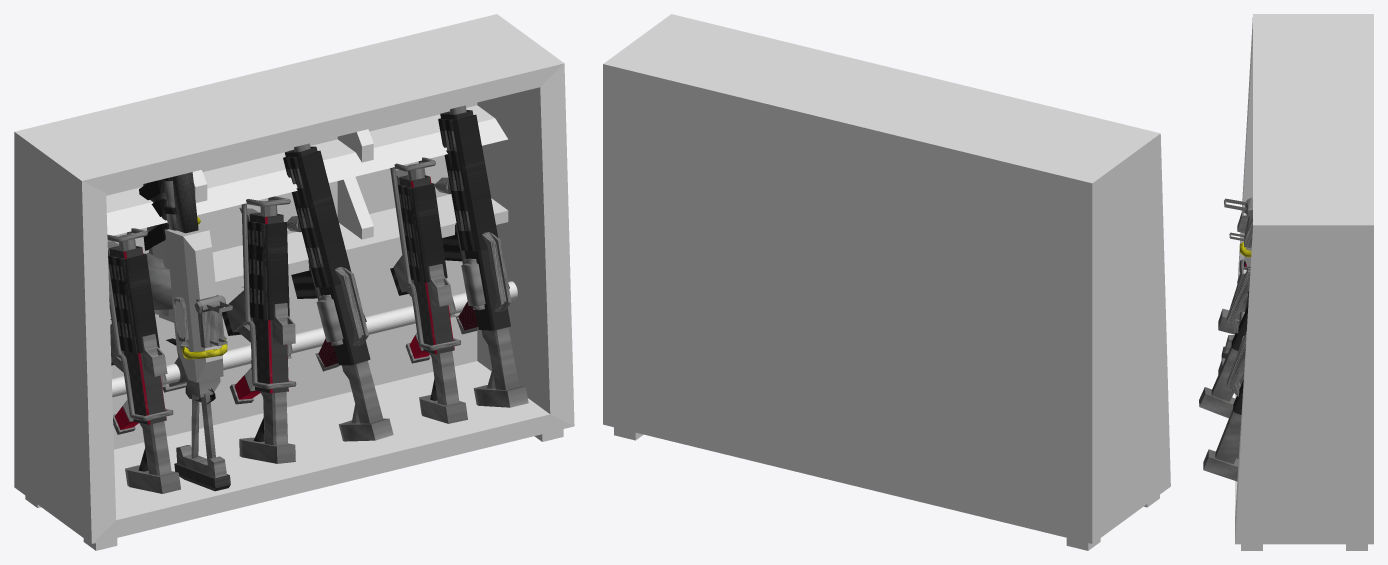
File: gunrack.fbx
3 views of the same model, side by side, from view 1: azimuth 30°, elevation 25°; view 2: azimuth 150°, elevation 25°; view 3: azimuth 270°, elevation 25° (orthographic). The views are drawn at different scales.
Visible parts, largest first — view 1: Cube.001, Cube, Cube.015, Cube.021, Cube.016, Cube.004, Cube.002, Cube.019, Cube.008, Cylinder, Cube.007, Cube.003; view 2: Cube.001; view 3: Cube.001, Cube.021, Cube.015, Cube, Cube.004, Cube.016.
Part boxes in pixels (x1,y1,x2,y2): Cube.001: (14,14,574,543); Cube: (139,172,232,491); Cube.015: (434,105,528,407); Cube.021: (283,143,393,441); Cube.016: (222,196,296,463); Cube.004: (107,228,180,493); Cube.002: (106,105,507,235); Cube.019: (390,157,467,423); Cube.008: (109,194,508,318); Cylinder: (112,281,517,397); Cube.007: (337,177,373,239); Cube.003: (337,129,373,162); Cube.001: (603,14,1170,543); Cube.001: (1235,14,1373,544); Cube.021: (1199,268,1250,418); Cube.015: (1203,332,1246,481); Cube: (1221,197,1252,359); Cube.004: (1218,210,1248,334); Cube.016: (1218,266,1250,384).
Bounding box in the file's own units: 778 × 565 × 272.
